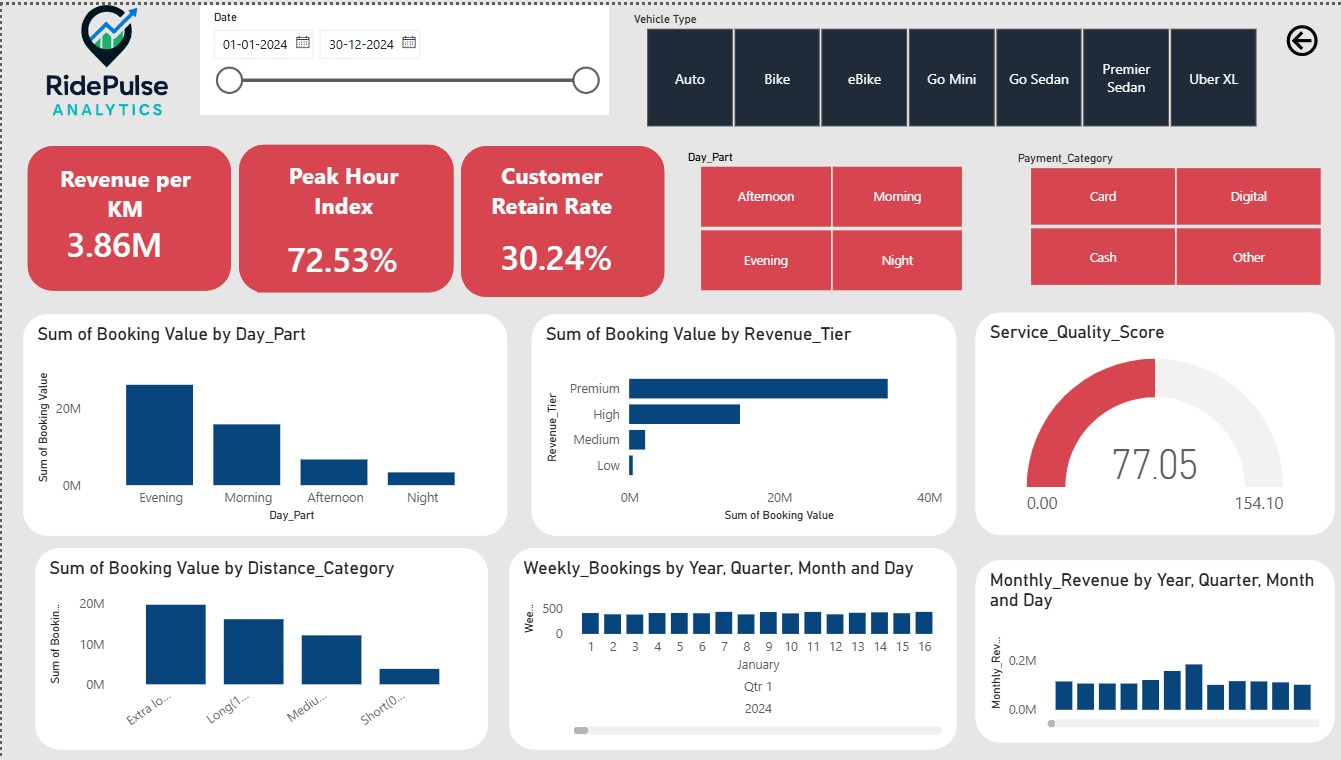

Layout of this report page (visuals, bound fields, positions):
{"tool":"powerbi","page":{"name":"Summary","canvas":[1280,720],"ordinal":6},"visuals":[{"type":"gauge","fields":{"Y":["rideBookings.Service_Quality_Score"]},"box":[927.5,293.5,341.9,211.8],"z":0},{"type":"slicer","fields":{"Values":["rideBookings.Vehicle Type"]},"box":[589,1.5,629.9,121.1],"z":2000},{"type":"columnChart","fields":{"Category":["rideBookings.Day_Part"],"Y":["Sum(rideBookings.Booking Value)"]},"box":[20.6,293.7,461.1,211.3],"z":3000},{"type":"columnChart","fields":{"Y":["Sum(rideBookings.Booking Value)"],"Category":["rideBookings.Distance_Category"]},"box":[31.8,517.4,431.2,192.2],"z":4000},{"type":"clusteredColumnChart","fields":{"Y":["rideBookings.Monthly_Revenue"],"Category":["rideBookings.Date.Variation.Date Hierarchy.Year","rideBookings.Date.Variation.Date Hierarchy.Quarter","rideBookings.Date.Variation.Date Hierarchy.Month","rideBookings.Date.Variation.Date Hierarchy.Day"]},"box":[927.5,528,341.9,174],"z":5000},{"type":"clusteredColumnChart","fields":{"Y":["rideBookings.Weekly_Bookings"],"Category":["rideBookings.Date.Variation.Date Hierarchy.Year","rideBookings.Date.Variation.Date Hierarchy.Quarter","rideBookings.Date.Variation.Date Hierarchy.Month","rideBookings.Date.Variation.Date Hierarchy.Day"]},"box":[482.6,517.4,426.7,192.2],"z":6000},{"type":"clusteredBarChart","fields":{"Category":["rideBookings.Revenue_Tier"],"Y":["Sum(rideBookings.Booking Value)"]},"box":[503.6,293.7,404.8,211.3],"z":7000},{"type":"slicer","fields":{"Values":["rideBookings.Date"]},"box":[189.3,0,389.2,104.5],"z":8000},{"type":"slicer","fields":{"Values":["rideBookings.Payment_Category"]},"box":[953.9,134.8,325.6,139.3],"z":9000},{"type":"slicer","fields":{"Values":["rideBookings.Day_Part"]},"box":[640.5,133.3,298.3,145.4],"z":10000},{"type":"image","box":[0,0,201.3,105.1],"z":11000},{"type":"shape","box":[24.2,134.8,193.8,137.8],"z":12000},{"type":"cardVisual","fields":{"Data":["Sum(rideBookings.Revenue_Per_Km)"]},"box":[31.8,186.2,157.5,78.7],"z":14000},{"type":"shape","box":[225.6,133.2,204.4,140.8],"z":15000},{"type":"textbox","box":[242.3,141.3,165,69.7],"z":16000},{"type":"cardVisual","fields":{"Data":["rideBookings.Premium_Peak_Hour_Index"]},"box":[242.3,207.4,165,66.6],"z":17000},{"type":"shape","box":[436.6,134.8,193.8,143.8],"z":18000},{"type":"textbox","box":[447.2,141.8,152.9,74.2],"z":19000},{"type":"cardVisual","fields":{"Data":["rideBookings.Customer_Retain_Rate"]},"box":[445.5,205.8,177.5,64.2],"z":20000},{"type":"textbox","box":[45.4,143.8,143.8,71.2],"z":20500},{"type":"actionButton","box":[1218,13.6,48.4,39.3],"z":20501}]}

Visuals, with their boxes in screenshot pixels (x1, y1, x2, y2), scaled from the page's 1280x720 canvas onto the 1341x760 screenshot:
gauge - rideBookings.Service_Quality_Score: pyautogui.locateOnScreen(972, 310, 1330, 533)
slicer - rideBookings.Vehicle Type: pyautogui.locateOnScreen(617, 2, 1277, 129)
columnChart - rideBookings.Day_Part x Sum(rideBookings.Booking Value): pyautogui.locateOnScreen(22, 310, 505, 533)
columnChart - Sum(rideBookings.Booking Value) x rideBookings.Distance_Category: pyautogui.locateOnScreen(33, 546, 485, 749)
clusteredColumnChart - rideBookings.Monthly_Revenue x rideBookings.Date.Variation.Date Hierarchy.Year: pyautogui.locateOnScreen(972, 557, 1330, 741)
clusteredColumnChart - rideBookings.Weekly_Bookings x rideBookings.Date.Variation.Date Hierarchy.Year: pyautogui.locateOnScreen(506, 546, 953, 749)
clusteredBarChart - rideBookings.Revenue_Tier x Sum(rideBookings.Booking Value): pyautogui.locateOnScreen(528, 310, 952, 533)
slicer - rideBookings.Date: pyautogui.locateOnScreen(198, 0, 606, 110)
slicer - rideBookings.Payment_Category: pyautogui.locateOnScreen(999, 142, 1340, 289)
slicer - rideBookings.Day_Part: pyautogui.locateOnScreen(671, 141, 984, 294)
image: pyautogui.locateOnScreen(0, 0, 211, 111)
shape: pyautogui.locateOnScreen(25, 142, 228, 288)
cardVisual - Sum(rideBookings.Revenue_Per_Km): pyautogui.locateOnScreen(33, 197, 198, 280)
shape: pyautogui.locateOnScreen(236, 141, 450, 289)
textbox: pyautogui.locateOnScreen(254, 149, 427, 223)
cardVisual - rideBookings.Premium_Peak_Hour_Index: pyautogui.locateOnScreen(254, 219, 427, 289)
shape: pyautogui.locateOnScreen(457, 142, 660, 294)
textbox: pyautogui.locateOnScreen(469, 150, 629, 228)
cardVisual - rideBookings.Customer_Retain_Rate: pyautogui.locateOnScreen(467, 217, 653, 285)
textbox: pyautogui.locateOnScreen(48, 152, 198, 227)
actionButton: pyautogui.locateOnScreen(1276, 14, 1327, 56)
